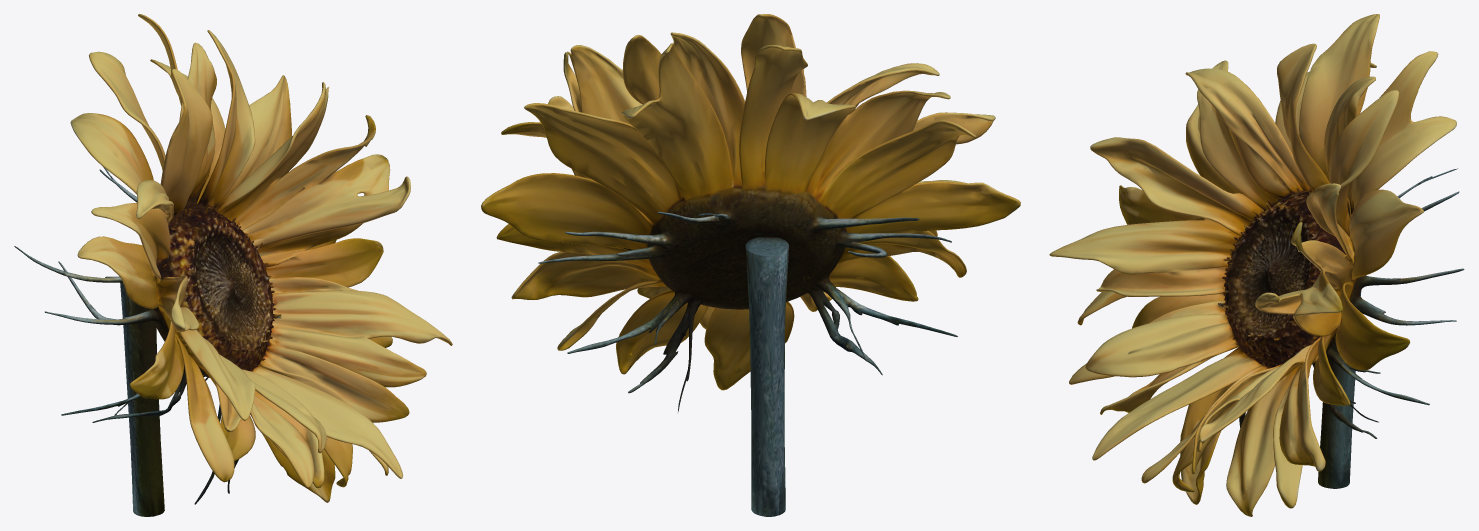
The model's file is sunflower.fbx.
3 renders of one model, left to right at view 1: azimuth 30°, elevation 25°; view 2: azimuth 150°, elevation 25°; view 3: azimuth 270°, elevation 25°, orthographic. The views are drawn at different scales.
Visible parts, largest first — view 1: tripo_node_26ca20ff; view 2: tripo_node_26ca20ff; view 3: tripo_node_26ca20ff.
Boxes of the visible parts, x1=… form: tripo_node_26ca20ff: x1=14, y1=14, x2=452, y2=516; tripo_node_26ca20ff: x1=481, y1=14, x2=1020, y2=516; tripo_node_26ca20ff: x1=1049, y1=14, x2=1464, y2=516.
Bounding box in the file's own units: 86.38 × 81.62 × 98.12.
Materials: 1 (1 with a texture image).
